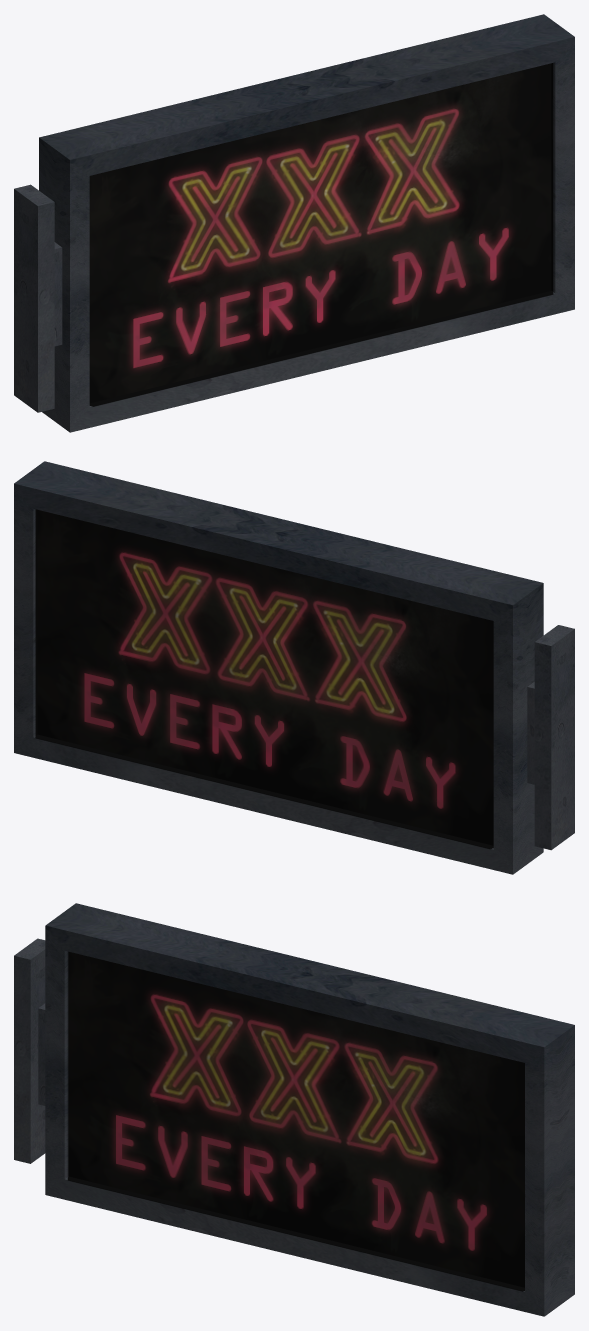
File: Neon_Sign_C.FBX
3 renders of one model, top to bottom at view 1: azimuth 30°, elevation 25°; view 2: azimuth 150°, elevation 25°; view 3: azimuth 330°, elevation 25°, orthographic.
Visible parts, largest first — view 1: Sign_C, Sign_WallMounting; view 2: Sign_C, Sign_WallMounting; view 3: Sign_C, Sign_WallMounting.
Boxes of the visible parts, x1,y1,x2,y2 form: Sign_C: (39, 14, 574, 432); Sign_WallMounting: (14, 184, 62, 412); Sign_C: (14, 461, 543, 874); Sign_WallMounting: (527, 625, 574, 850); Sign_C: (45, 903, 574, 1316); Sign_WallMounting: (14, 938, 45, 1163).
Bounding box in the file's own units: 118 × 57.05 × 11.73.
